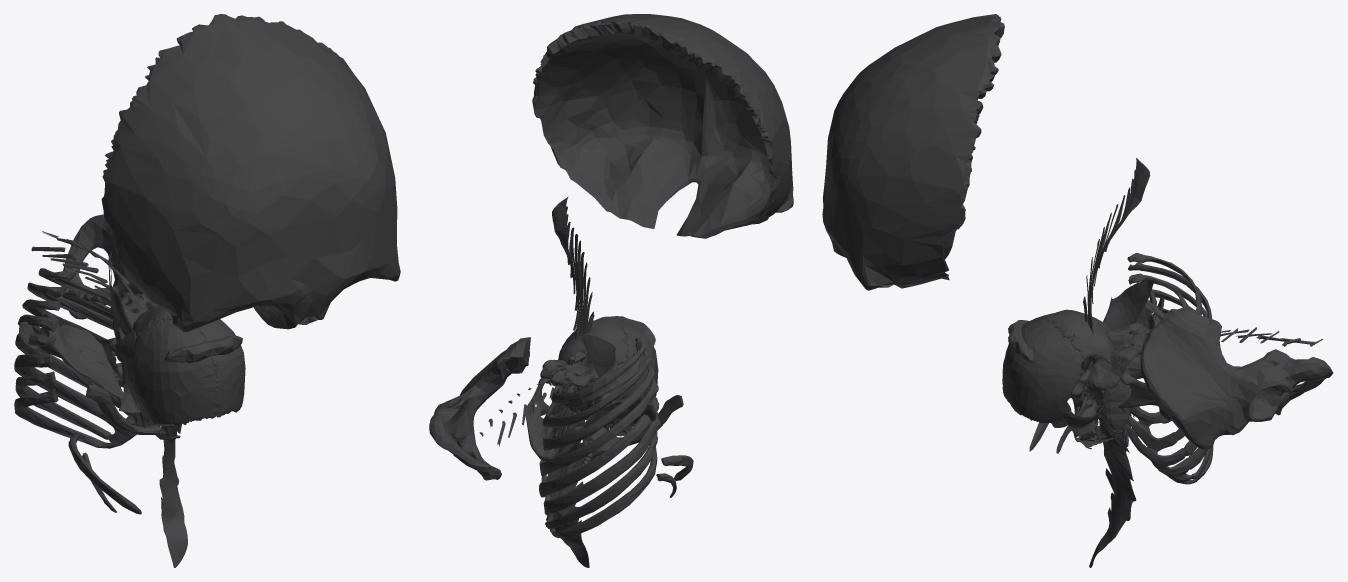
The model's file is sharedassets33.glb.
3 views of the same model, side by side, from view 1: azimuth 30°, elevation 25°; view 2: azimuth 150°, elevation 25°; view 3: azimuth 270°, elevation 25° (orthographic). The views are drawn at different scales.
Visible parts, largest first — view 1: 0085_Frontal__001097, 0073_Parietal, R__001095, 0000_Scapula, L__000982, 0074_Parietal, L__001094, 0201_Multifidus, R__1000676, 0129_Eighth rib _08_, R__002280, 0130_Ninth rib _09_, R__002281, 0131_Tenth rib _10_, R__002282, 0126_Manubrium__001162, 0001_Clavicle, L__000981, 0138_Seventh rib _07_, R__002279, 0200_Sternocleidomastoid, R__1000392 (+11 smaller); view 2: 0085_Frontal__001097, 0201_Multifidus, R__1000676, 0009_Ilium, R__001012, 0150_Seventh rib _07_, L__002291, 0072_Mandible_body_001091, 0084_Occipital__001132, 0149_Sixth rib _06_, L__002290, 0006_Ilium, L__001003, 0129_Eighth rib _08_, R__002280, 0175_S01-05 Sacrum__001242, 0130_Ninth rib _09_, R__002281, 0131_Tenth rib _10_, R__002282 (+14 smaller); view 3: 0085_Frontal__001097, 0006_Ilium, L__001003, 0074_Parietal, L__001094, 0201_Multifidus, R__1000676, 0009_Ilium, R__001012, 0175_S01-05 Sacrum__001242, 0007_Ischium, R__001010, 0084_Occipital__001132, 0200_Sternocleidomastoid, R__1000392, 0125_Body of sternum__001163, 0123_Sphenoid__001143, 0008_Pubis, R__001011 (+3 smaller).
Part boxes in pixels (box(x1,y1,x2,y2)): 0085_Frontal__001097: box(101, 14, 400, 332); 0073_Parietal, R__001095: box(130, 318, 218, 426); 0000_Scapula, L__000982: box(19, 312, 124, 399); 0074_Parietal, L__001094: box(198, 319, 245, 417); 0201_Multifidus, R__1000676: box(159, 427, 187, 567); 0129_Eighth rib _08_, R__002280: box(14, 354, 136, 439); 0130_Ninth rib _09_, R__002281: box(15, 371, 128, 444); 0131_Tenth rib _10_, R__002282: box(14, 389, 120, 448); 0126_Manubrium__001162: box(163, 334, 242, 363); 0001_Clavicle, L__000981: box(86, 384, 161, 434); 0138_Seventh rib _07_, R__002279: box(15, 336, 129, 415); 0200_Sternocleidomastoid, R__1000392: box(108, 250, 174, 426); 0085_Frontal__001097: box(532, 14, 793, 238); 0201_Multifidus, R__1000676: box(543, 197, 594, 567); 0009_Ilium, R__001012: box(461, 337, 529, 424); 0150_Seventh rib _07_, L__002291: box(539, 396, 658, 497); 0072_Mandible_body_001091: box(525, 378, 610, 461); 0084_Occipital__001132: box(558, 318, 628, 369); 0149_Sixth rib _06_, L__002290: box(539, 379, 657, 476); 0006_Ilium, L__001003: box(451, 337, 530, 437); 0129_Eighth rib _08_, R__002280: box(546, 412, 660, 516); 0175_S01-05 Sacrum__001242: box(540, 359, 627, 400); 0130_Ninth rib _09_, R__002281: box(547, 431, 657, 527); 0131_Tenth rib _10_, R__002282: box(550, 446, 657, 537); 0085_Frontal__001097: box(822, 14, 1004, 290); 0006_Ilium, L__001003: box(1140, 307, 1260, 449); 0074_Parietal, L__001094: box(1002, 318, 1083, 427); 0201_Multifidus, R__1000676: box(1082, 158, 1150, 567); 0009_Ilium, R__001012: box(1141, 307, 1260, 448); 0175_S01-05 Sacrum__001242: box(1079, 323, 1150, 393); 0007_Ischium, R__001010: box(1252, 349, 1333, 392); 0084_Occipital__001132: box(1045, 309, 1114, 363); 0200_Sternocleidomastoid, R__1000392: box(1078, 280, 1154, 413); 0125_Body of sternum__001163: box(1101, 330, 1131, 430); 0123_Sphenoid__001143: box(1065, 382, 1107, 437); 0008_Pubis, R__001011: box(1250, 383, 1304, 419).
Bounding box in the file's own units: 0.175 × 0.3596 × 0.3075.
1 material, 1 textured.
